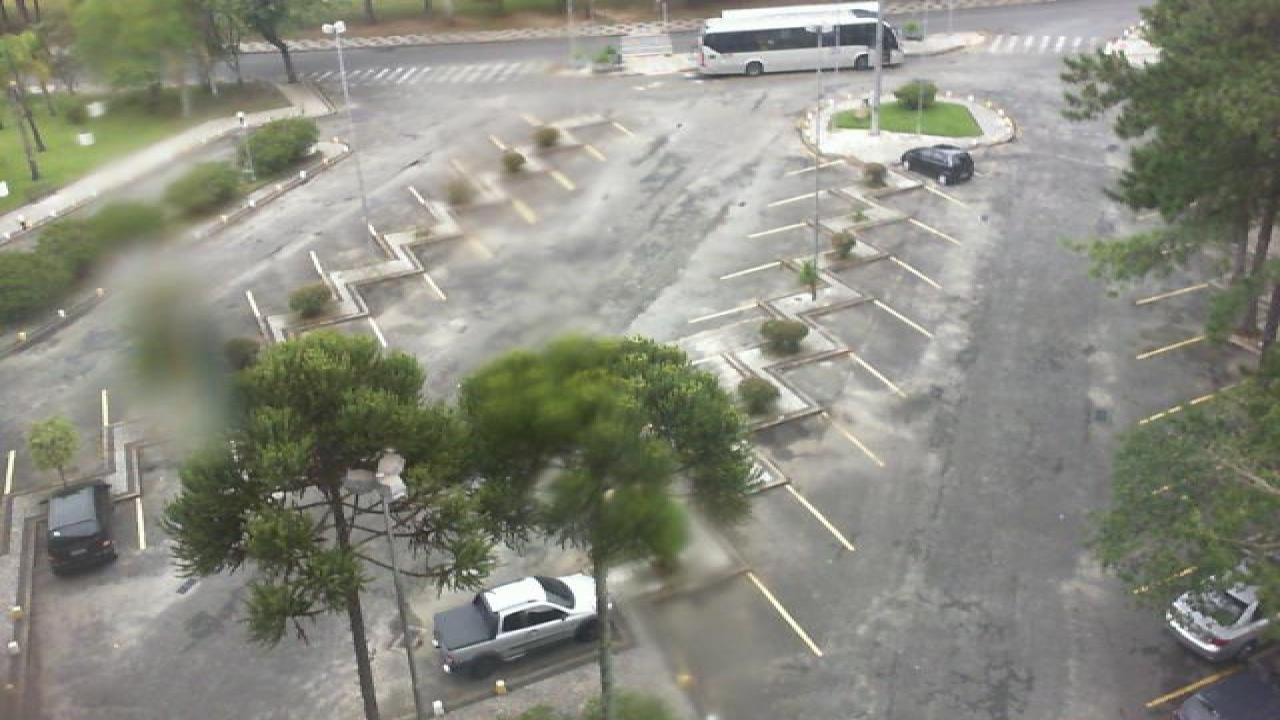Car: (430, 572, 610, 678), (1162, 560, 1278, 660), (38, 479, 120, 576), (1170, 673, 1280, 720), (900, 144, 976, 184)
